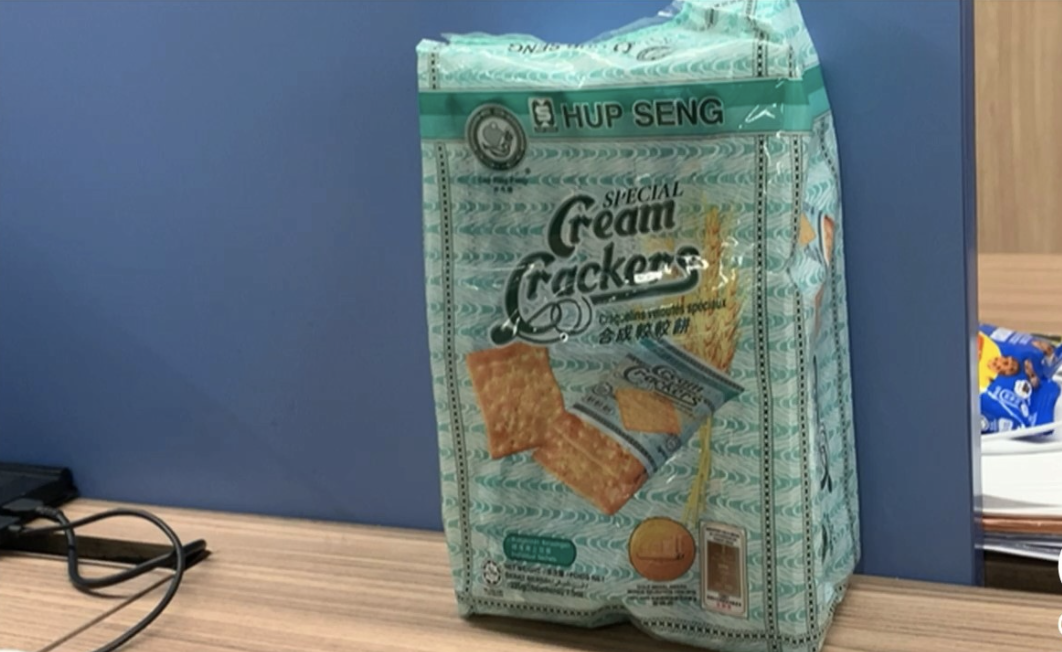crackers_150g: (459, 85, 779, 622)
